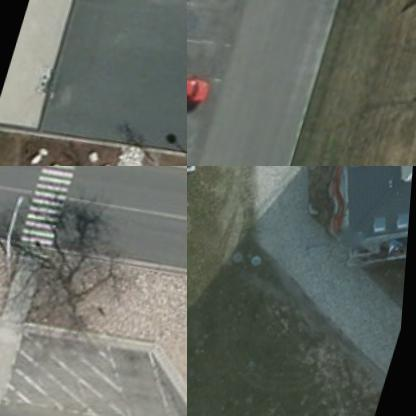car: (187, 68, 213, 111)
